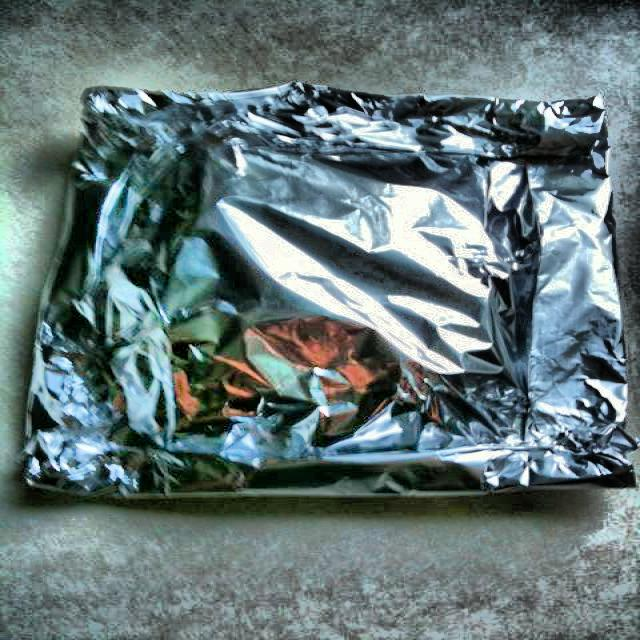Foil: (0, 70, 640, 510)
